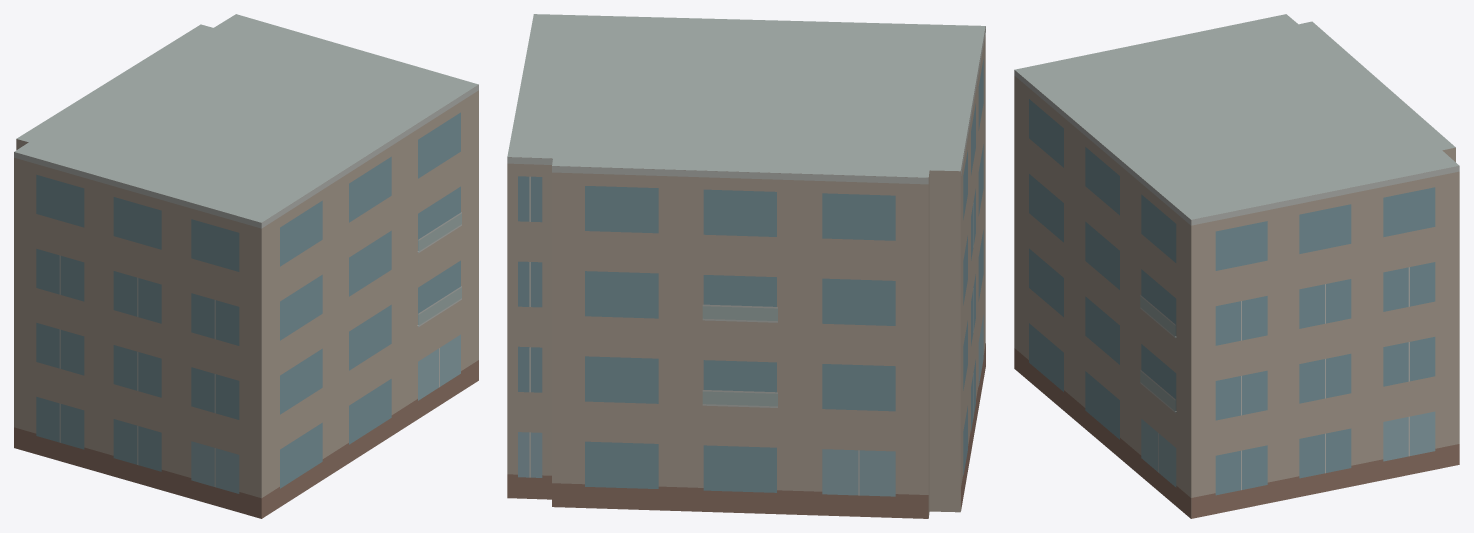
File: survey-upis-32746352.glb
3 renders of one model, left to right at view 1: azimuth 30°, elevation 25°; view 2: azimuth 150°, elevation 25°; view 3: azimuth 270°, elevation 25°, orthographic. The views are drawn at different scales.
Parts seen in each view (by area): view 1: survey-upis-32746352.tmp; view 2: survey-upis-32746352.tmp; view 3: survey-upis-32746352.tmp.
Part boxes in pixels (<box>): survey-upis-32746352.tmp: <box>14,14,478,518</box>; survey-upis-32746352.tmp: <box>507,14,985,518</box>; survey-upis-32746352.tmp: <box>1014,14,1459,518</box>.
Bounding box in the file's own units: 18.54 × 12.55 × 16.94.
